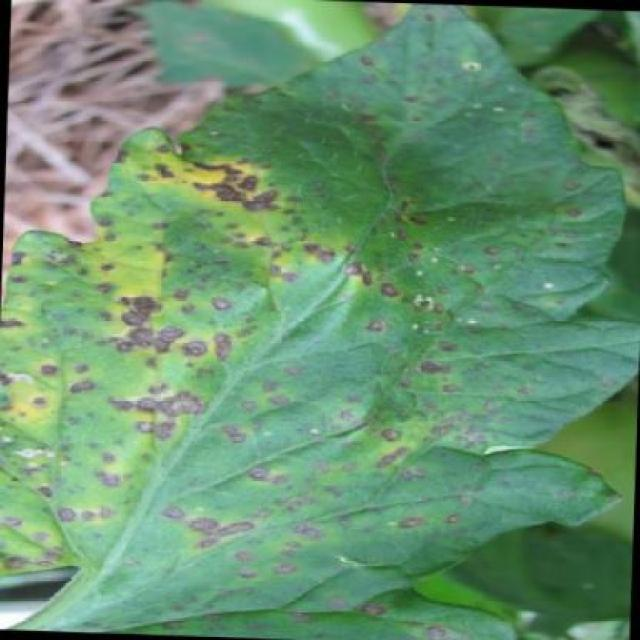Septoria leaf spot: (18, 14, 635, 637)
